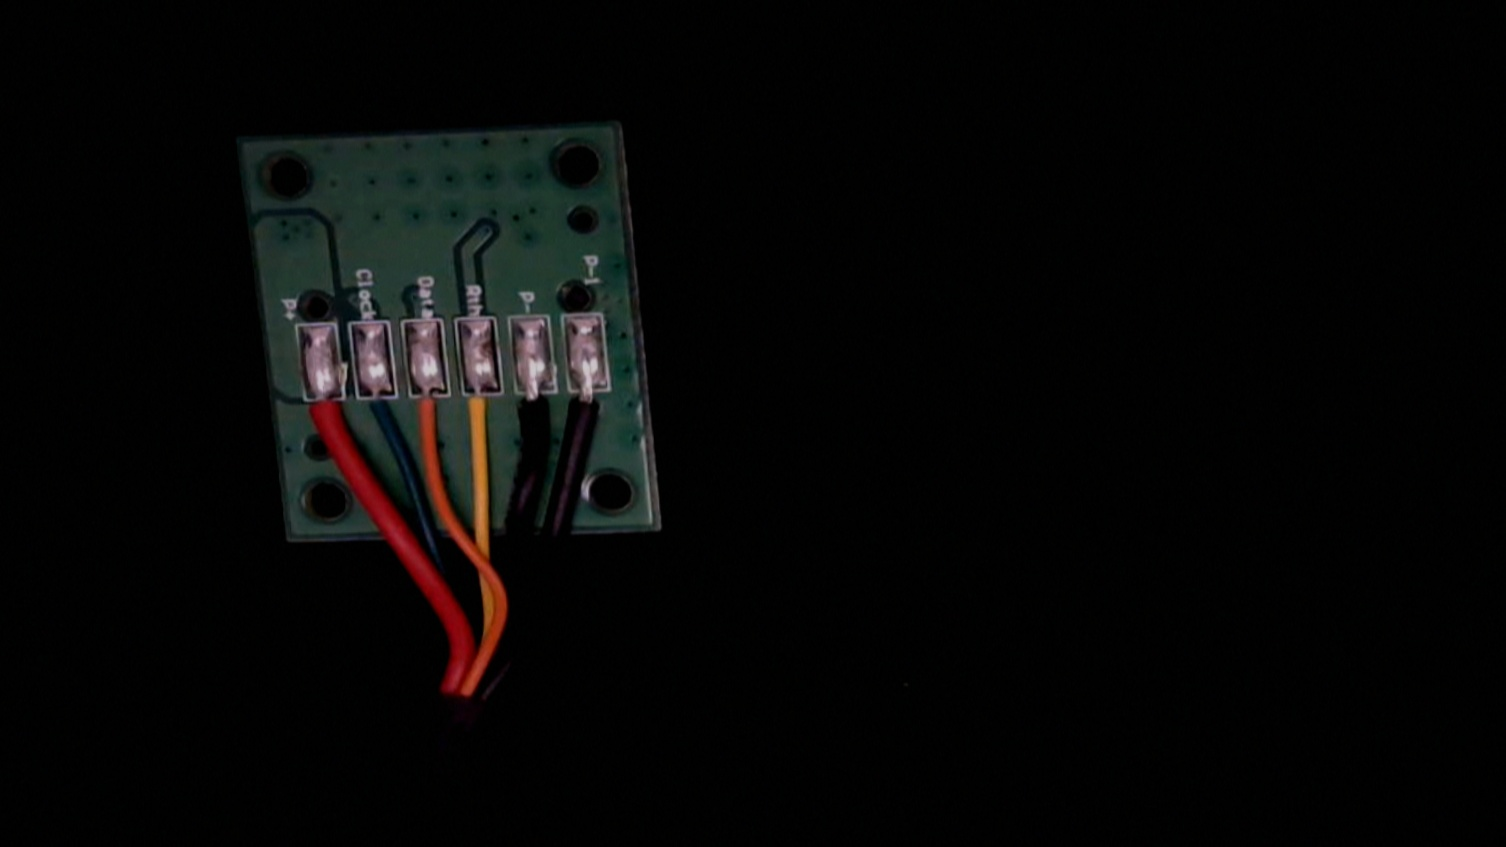Black: (511, 364, 562, 452)
Black1: (565, 365, 614, 446)
Green: (352, 372, 402, 457)
Orange: (405, 367, 454, 455)
Red: (299, 374, 350, 459)
Yellow: (453, 367, 504, 457)
